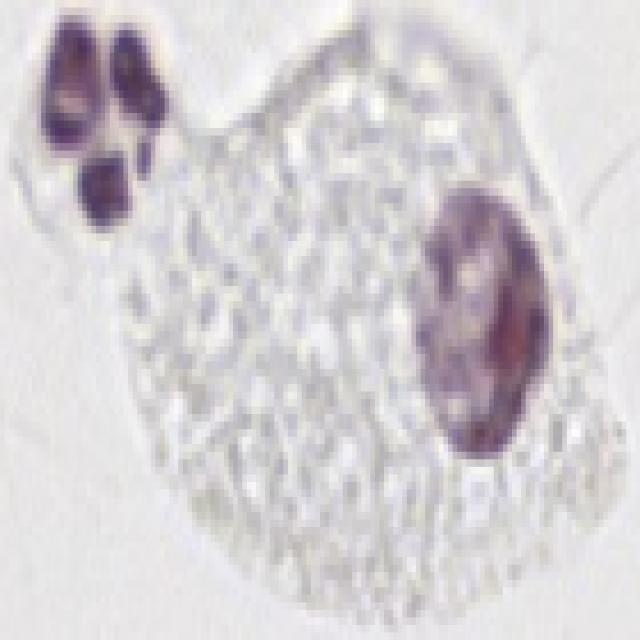nucleus: (409, 174, 564, 456)
